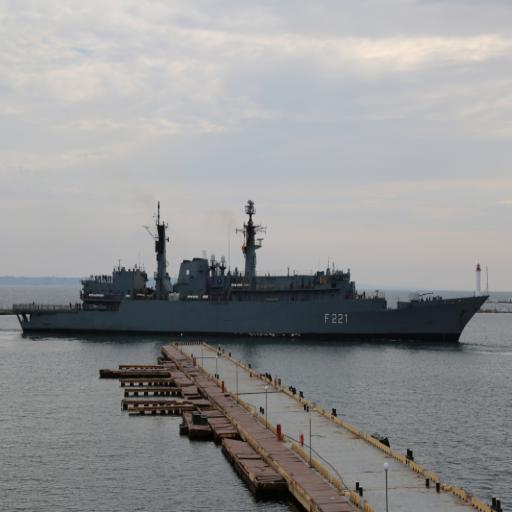Fragata: (13, 197, 493, 343)
